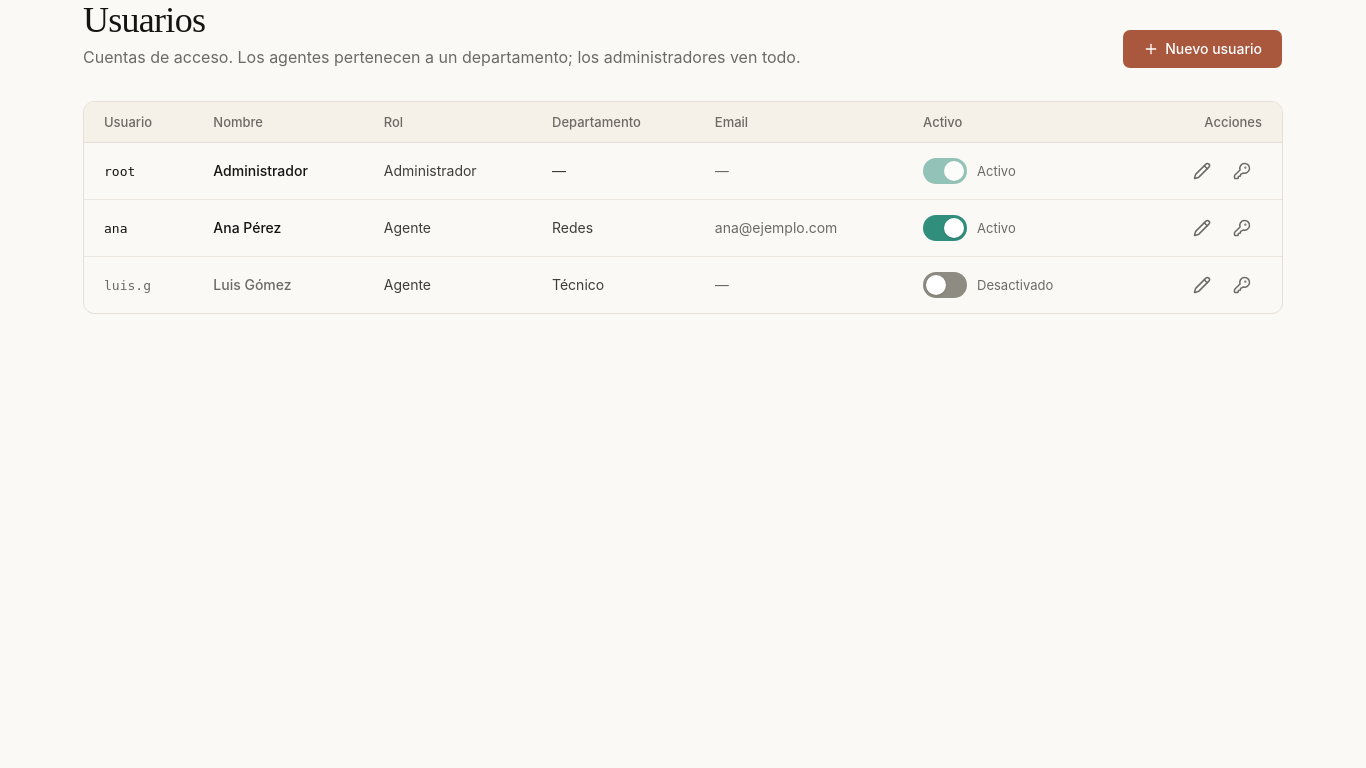
UsersAdmin › alta › valida usuario, nombre y contraseña y ata cada error a su campo
Click the button "Nuevo usuario". click: (1203, 49)
box: [1122,29,1283,69]
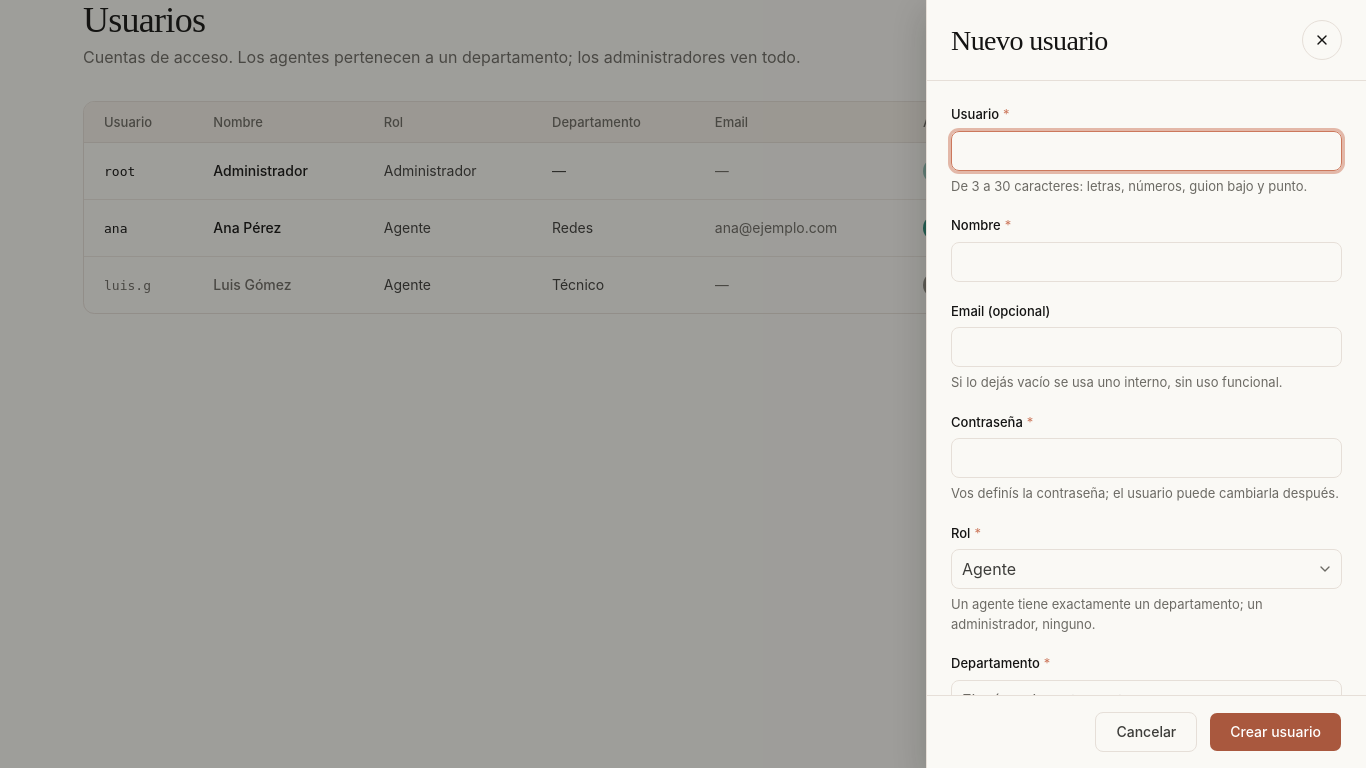
Click the button "Crear usuario". click: (1276, 732)
box: [1209,712,1342,752]
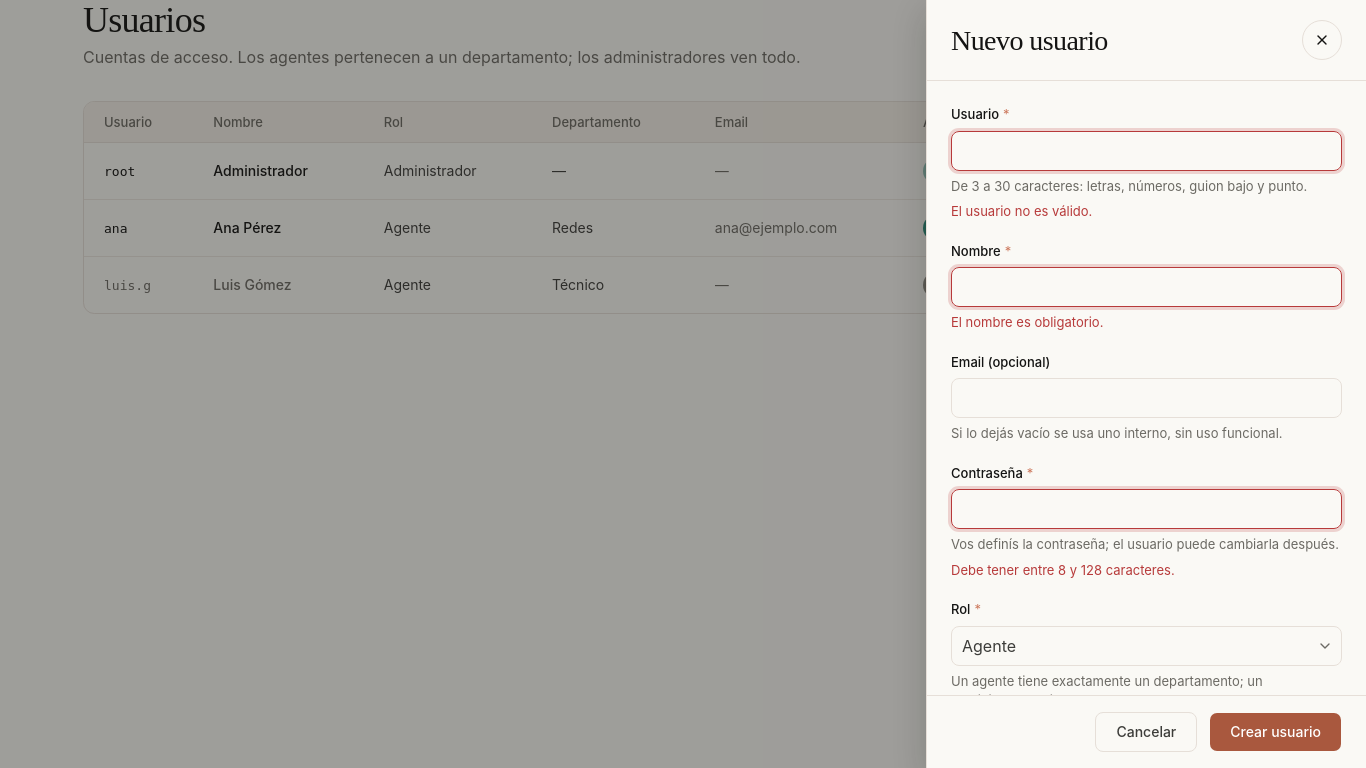
Expected: the text "El usuario no es válido." is shown, [951,203,1092,219]
Expected: the text "El nombre es obligatorio." is shown, [951,314,1103,330]
Expected: the text "Debe tener entre 8 y 128 caracteres." is shown, [951,562,1175,578]
